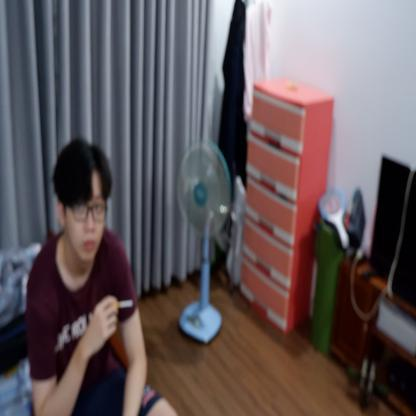cigarette: (115, 298, 135, 312)
person: (23, 136, 160, 415)
